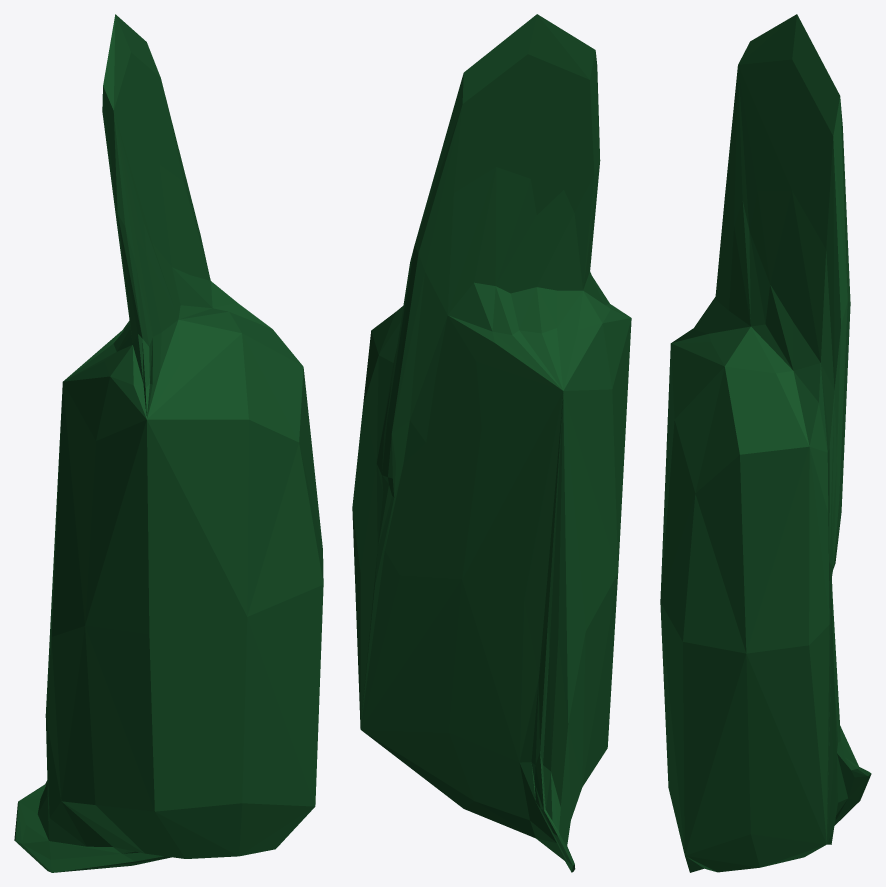
The picture shows the model from 3 angles, left to right: view 1: azimuth 30°, elevation 25°; view 2: azimuth 150°, elevation 25°; view 3: azimuth 270°, elevation 25°; orthographic projection. The views are drawn at different scales.
Parts seen in each view (by area): view 1: 580_Cube.2336; view 2: 580_Cube.2336; view 3: 580_Cube.2336.
Boxes of the visible parts, left/top/right/bottom form: 580_Cube.2336: left=14, top=14, right=323, bottom=872; 580_Cube.2336: left=352, top=14, right=631, bottom=872; 580_Cube.2336: left=660, top=14, right=871, bottom=872.
Bounding box in the file's own units: 6.19 × 20.17 × 4.58.
